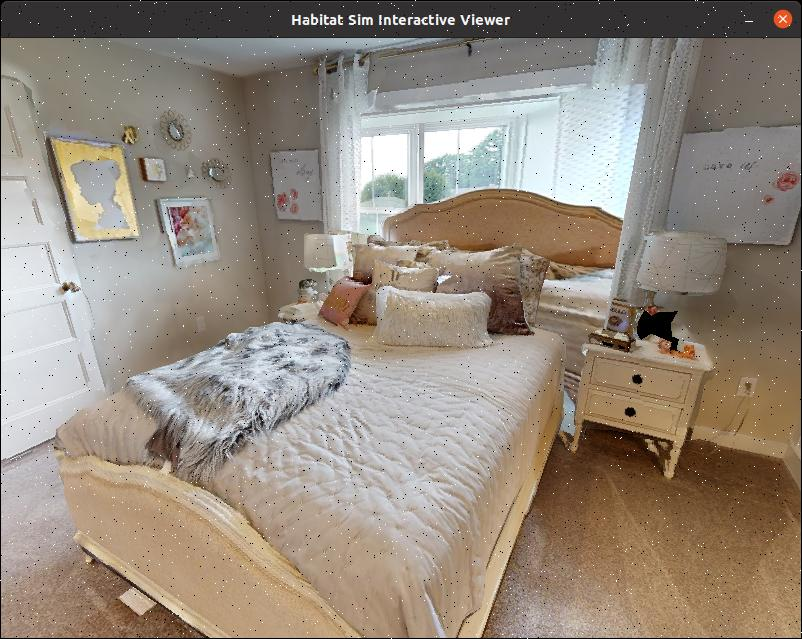bed: (55, 173, 648, 639)
door: (0, 64, 114, 490)
